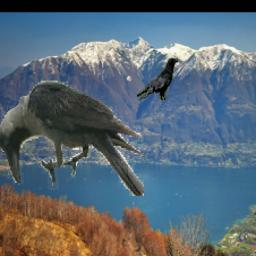Crow: (0, 82, 145, 197), (137, 58, 179, 101)
